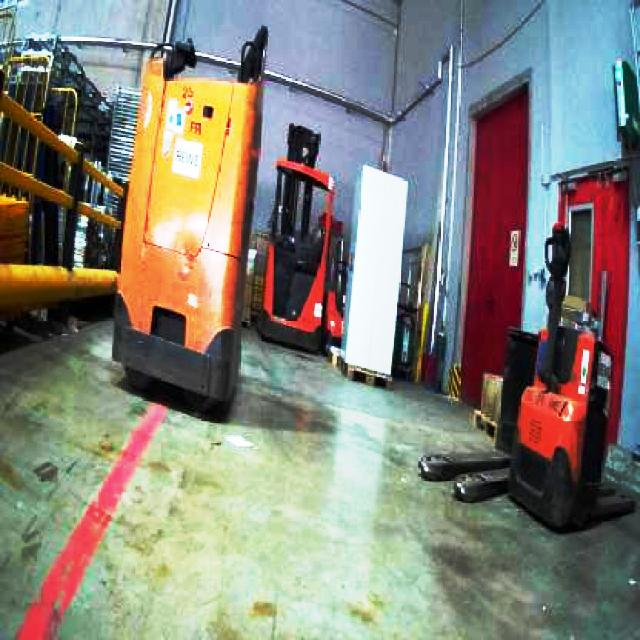ground: (0, 314, 638, 638)
pallet: (0, 2, 126, 362), (0, 55, 126, 231), (329, 163, 408, 388), (0, 186, 29, 265)
